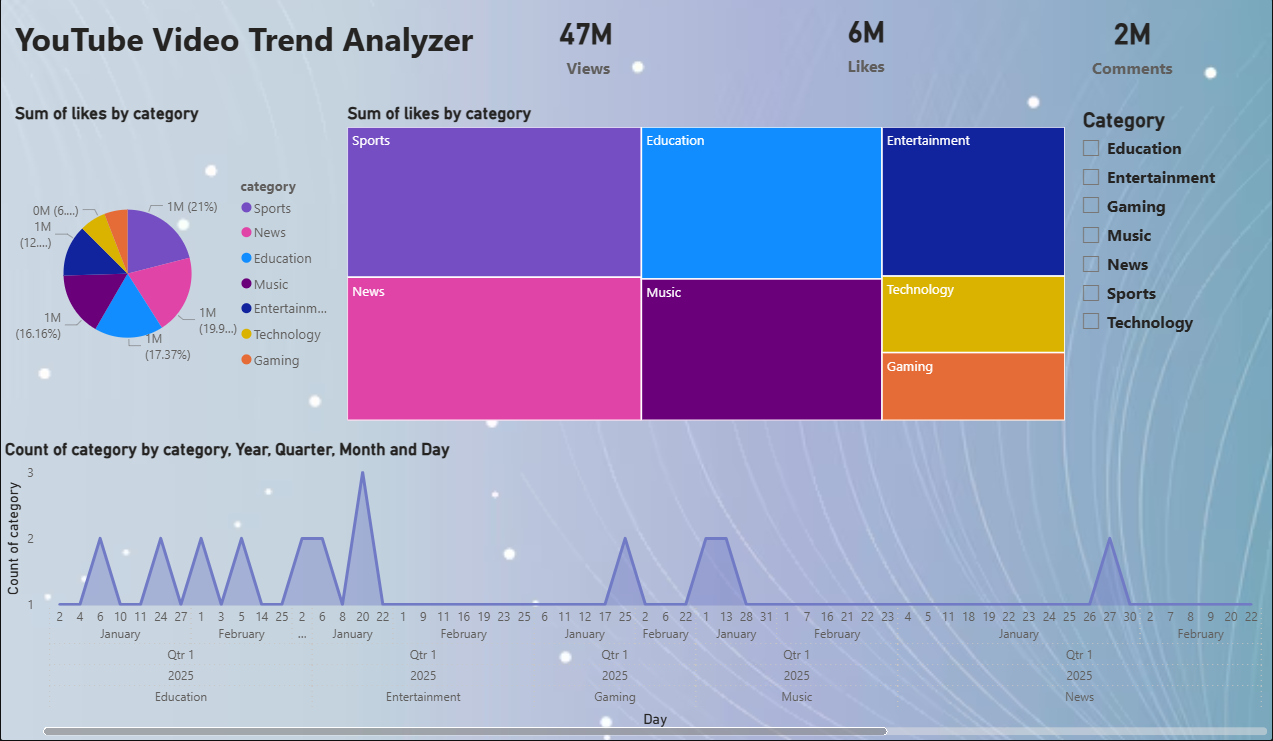

This screenshot's page, from the dashboard's own definition file:
{"tool":"powerbi","page":{"name":"Page 1","canvas":[1273,743],"ordinal":0},"visuals":[{"type":"card","fields":{"Values":["Sum(YouTubeData.views)"]},"box":[446.2,0,280,90],"z":0},{"type":"card","fields":{"Values":["Sum(YouTubeData.likes)"]},"box":[726.2,0,280,86.2],"z":1},{"type":"card","fields":{"Values":["Sum(YouTubeData.comment_count)"]},"box":[992.5,0,280,90],"z":2},{"type":"stackedAreaChart","fields":{"Category":["YouTubeData.category","YouTubeData.trending_date.Variation.Date Hierarchy.Year","YouTubeData.trending_date.Variation.Date Hierarchy.Quarter","YouTubeData.trending_date.Variation.Date Hierarchy.Month","YouTubeData.trending_date.Variation.Date Hierarchy.Day"],"Y":["CountNonNull(YouTubeData.category)"]},"box":[0,441.2,1272.5,301.2],"z":3},{"type":"pieChart","fields":{"Category":["YouTubeData.category"],"Y":["Sum(YouTubeData.likes)"]},"box":[10,105,332.5,322.5],"z":4},{"type":"treemap","fields":{"Group":["YouTubeData.category"],"Values":["Sum(YouTubeData.likes)"]},"box":[342.5,105,727.5,322.5],"z":5},{"type":"slicer","fields":{"Values":["YouTubeData.category"]},"box":[1070,105,187.5,238.8],"z":6},{"type":"textbox","box":[10,13.8,491.2,62.5],"z":7}]}

Visuals, with their boxes in screenshot pixels (x1, y1, x2, y2), scaled from the page's 1273x743 canvas onto the 1273x741 screenshot:
card - Sum(YouTubeData.views): select_region(446, 0, 726, 90)
card - Sum(YouTubeData.likes): select_region(726, 0, 1006, 86)
card - Sum(YouTubeData.comment_count): select_region(992, 0, 1272, 90)
stackedAreaChart - YouTubeData.category x YouTubeData.trending_date.Variation.Date Hierarchy.Year: select_region(0, 440, 1272, 740)
pieChart - YouTubeData.category x Sum(YouTubeData.likes): select_region(10, 105, 342, 426)
treemap - YouTubeData.category x Sum(YouTubeData.likes): select_region(342, 105, 1070, 426)
slicer - YouTubeData.category: select_region(1070, 105, 1258, 343)
textbox: select_region(10, 14, 501, 76)
